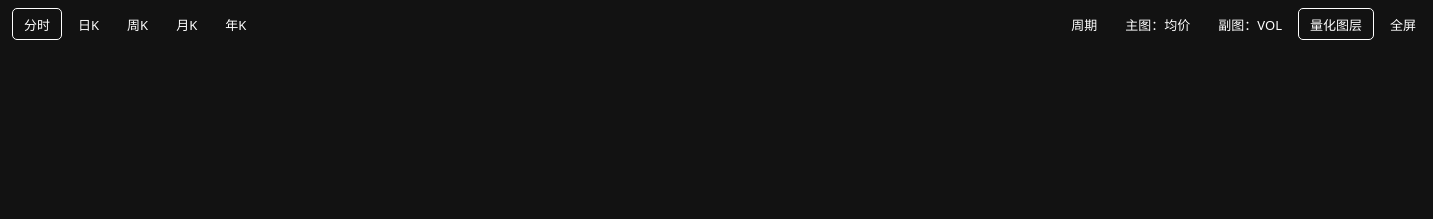
Test: closes an open menu with Escape
The width and height of the screenshot is (1433, 219).
Step 1. Click the button "周期" → {"x": 1084, "y": 24}, box x1=1059 y1=8 x2=1109 y2=40
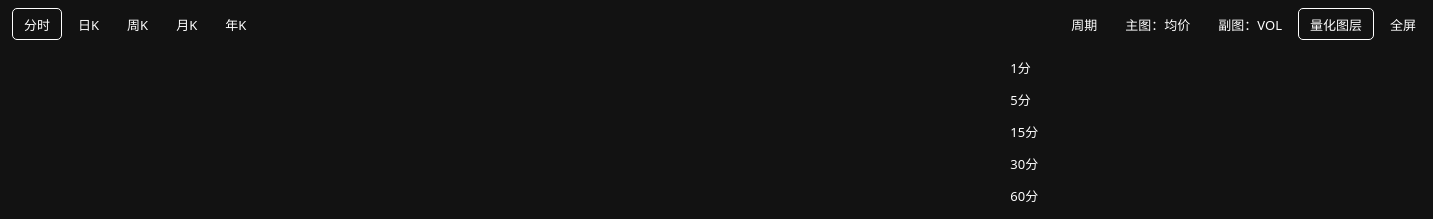
Check: the menu item "1分" is shown, box x1=998 y1=51 x2=1104 y2=83
Step 2. Press Escape
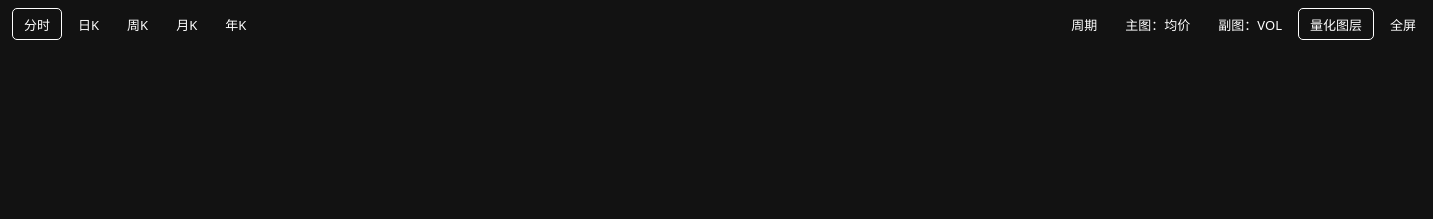
Check: the menu item "1分" is gone
